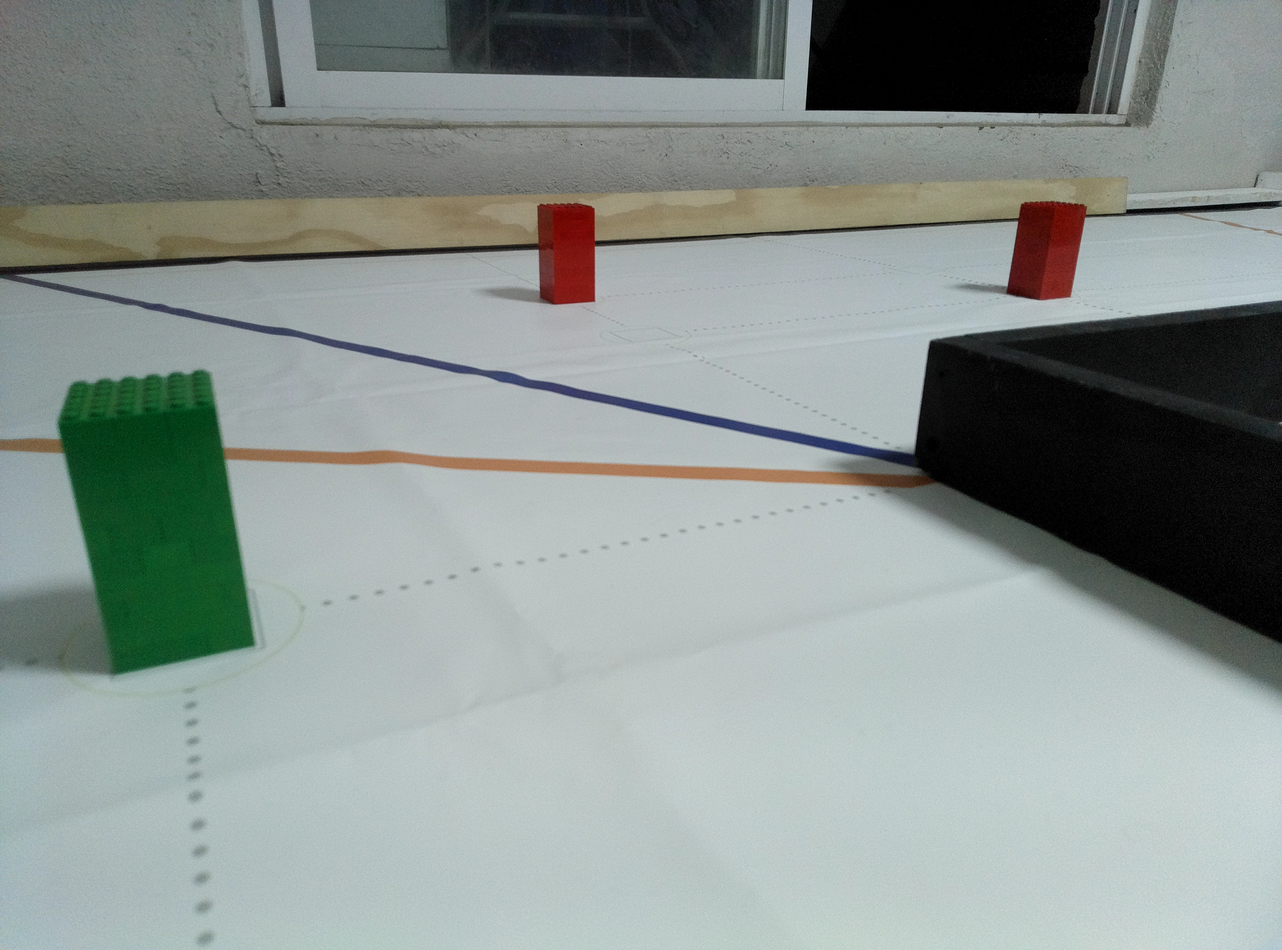greenbox: (55, 368, 257, 678)
redbox: (1004, 201, 1088, 301), (536, 202, 596, 305)
